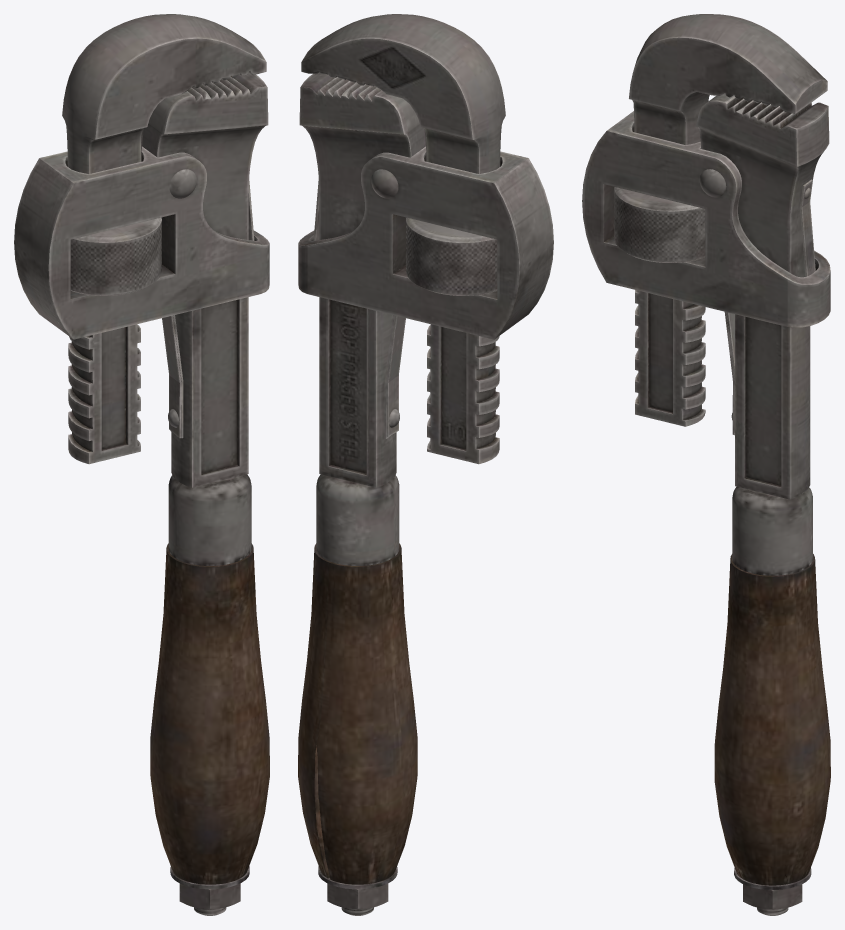
The model's file is adjustable_wrench_1k.glb.
3 views of the same model, side by side, from view 1: azimuth 30°, elevation 25°; view 2: azimuth 150°, elevation 25°; view 3: azimuth 330°, elevation 25° (orthographic). The views are drawn at different scales.
Visible parts, largest first — view 1: adjustable_wrench, adjustable_wrench_jaw, adjustable_wrench_nut; view 2: adjustable_wrench, adjustable_wrench_jaw, adjustable_wrench_nut; view 3: adjustable_wrench, adjustable_wrench_jaw, adjustable_wrench_nut.
Part boxes in pixels (bbox=[...]): adjustable_wrench: bbox=[14, 72, 269, 915]; adjustable_wrench_jaw: bbox=[62, 14, 266, 464]; adjustable_wrench_nut: bbox=[70, 217, 161, 295]; adjustable_wrench: bbox=[298, 72, 553, 915]; adjustable_wrench_jaw: bbox=[301, 14, 505, 464]; adjustable_wrench_nut: bbox=[406, 217, 497, 295]; adjustable_wrench: bbox=[582, 93, 830, 915]; adjustable_wrench_jaw: bbox=[629, 14, 827, 426]; adjustable_wrench_nut: bbox=[614, 187, 705, 262].
Size of the model in its own units: 0.0683 by 0.2541 by 0.0306.
1 material, 1 textured.
